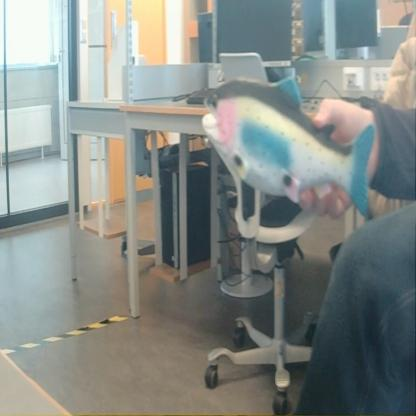rubberfish: (198, 72, 377, 224)
